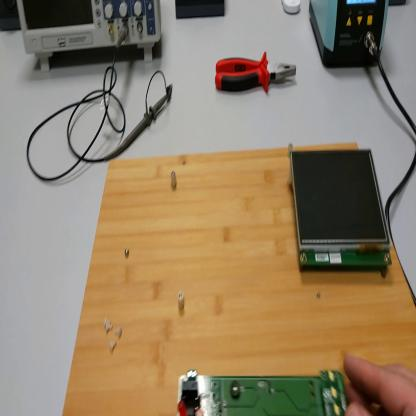hand: (338, 346, 416, 415)
low voltage board: (180, 364, 352, 416)
oscilloscope: (17, 1, 164, 75)
oscilloscope probe tip: (105, 95, 169, 161)
pliers: (217, 52, 299, 103)
socket: (2, 1, 22, 32), (389, 1, 407, 8)
welder station: (310, 2, 391, 73)
working area: (63, 134, 416, 415)
